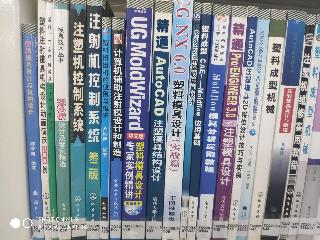book-spine: (261, 10, 306, 240), (245, 9, 287, 240), (277, 14, 316, 240), (212, 7, 248, 240), (235, 9, 270, 240), (195, 5, 229, 240), (120, 0, 153, 239), (286, 16, 320, 240), (162, 0, 193, 240), (227, 7, 258, 240), (146, 0, 172, 240), (186, 3, 212, 240), (179, 2, 201, 240), (23, 23, 43, 240), (108, 19, 127, 239), (54, 1, 71, 240), (70, 0, 86, 239), (86, 1, 102, 239), (36, 0, 51, 240), (45, 0, 58, 239), (101, 18, 111, 239)
